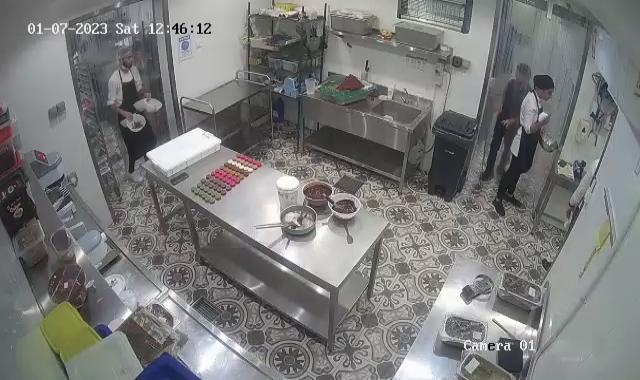hairnet: (116, 43, 134, 69)
no_hairnet: (531, 72, 556, 96)
